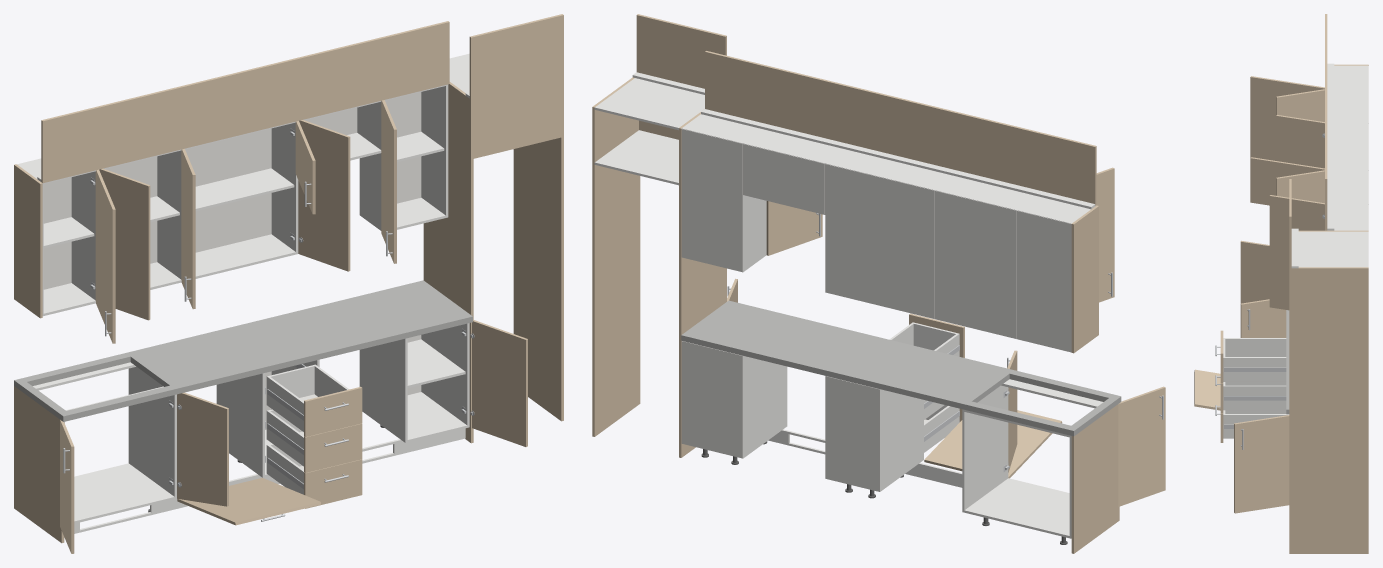
The model's file is kitchen_builtin_open.glb.
3 views of the same model, side by side, from view 1: azimuth 30°, elevation 25°; view 2: azimuth 150°, elevation 25°; view 3: azimuth 270°, elevation 25° (orthographic). The views are drawn at different scales.
Parts seen in each view (by area): view 1: 50:countertop, 86:wall.top_filler[1], 88:wall.top_filler[2], 42:base[5].panel.right, 41:base[5].panel.left, 69:wall[2].back, 40:base[4].doors.door[1], 72:wall[2].doors.door[2], 90:base.top_filler[3], 46:base.side_panel.left, 7:base[0].doors.door[2], 45:base[5].top_panel (+41 smaller); view 2: 50:countertop, 69:wall[2].back, 42:base[5].panel.right, 86:wall.top_filler[1], 88:wall.top_filler[2], 62:wall[1].back, 83:wall[4].back, 55:wall[0].back, 38:base[4].back, 14:base[2].back, 46:base.side_panel.left, 6:base[0].doors.door[1] (+26 smaller); view 3: 42:base[5].panel.right, 40:base[4].doors.door[1], 85:wall[4].doors.door[1], 64:wall[1].doors.door[1], 44:base[5].roof, 71:wall[2].doors.door[1], 6:base[0].doors.door[1], 78:wall[3].doors.door[1], 7:base[0].doors.door[2], 68:wall[2].top, 26:base[2].fill[0].drawer[3].side.right, 21:base[2].fill[0].drawer[2].side.right (+20 smaller).
Boxes of the visible parts, left/top/right/bottom form: 50:countertop: left=14, top=280, right=472, bottom=421; 86:wall.top_filler[1]: left=41, top=70, right=246, bottom=183; 88:wall.top_filler[2]: left=245, top=21, right=449, bottom=133; 42:base[5].panel.right: left=513, top=77, right=563, bottom=421; 41:base[5].panel.left: left=423, top=82, right=473, bottom=443; 69:wall[2].back: left=186, top=128, right=271, bottom=252; 40:base[4].doors.door[1]: left=469, top=320, right=527, bottom=446; 72:wall[2].doors.door[2]: left=298, top=120, right=350, bottom=271; 90:base.top_filler[3]: left=469, top=14, right=563, bottom=99; 46:base.side_panel.left: left=14, top=386, right=64, bottom=543; 7:base[0].doors.door[2]: left=177, top=392, right=228, bottom=506; 45:base[5].top_panel: left=473, top=78, right=561, bottom=158; 50:countertop: left=681, top=300, right=1121, bottom=436; 69:wall[2].back: left=825, top=164, right=934, bottom=318; 42:base[5].panel.right: left=592, top=77, right=640, bottom=436; 86:wall.top_filler[1]: left=900, top=98, right=1096, bottom=205; 88:wall.top_filler[2]: left=705, top=51, right=900, bottom=156; 62:wall[1].back: left=935, top=190, right=1016, bottom=338; 83:wall[4].back: left=681, top=129, right=742, bottom=271; 55:wall[0].back: left=1017, top=210, right=1071, bottom=352; 38:base[4].back: left=681, top=341, right=742, bottom=458; 14:base[2].back: left=825, top=376, right=879, bottom=491; 46:base.side_panel.left: left=1071, top=404, right=1119, bottom=553; 6:base[0].doors.door[1]: left=1118, top=386, right=1165, bottom=506; 42:base[5].panel.right: left=1289, top=267, right=1368, bottom=553; 40:base[4].doors.door[1]: left=1234, top=415, right=1289, bottom=513; 85:wall[4].doors.door[1]: left=1269, top=195, right=1324, bottom=310; 64:wall[1].doors.door[1]: left=1250, top=76, right=1324, bottom=160; 44:base[5].roof: left=1298, top=231, right=1368, bottom=267; 71:wall[2].doors.door[1]: left=1276, top=115, right=1324, bottom=168; 6:base[0].doors.door[1]: left=1240, top=240, right=1269, bottom=303; 78:wall[3].doors.door[1]: left=1250, top=157, right=1324, bottom=205; 7:base[0].doors.door[2]: left=1240, top=299, right=1286, bottom=337; 68:wall[2].top: left=1334, top=124, right=1367, bottom=168; 26:base[2].fill[0].drawer[3].side.right: left=1223, top=357, right=1286, bottom=381; 21:base[2].fill[0].drawer[2].side.right: left=1223, top=385, right=1286, bottom=409.
Size of the model in its own units: 3.67 by 2.71 by 1.27.
